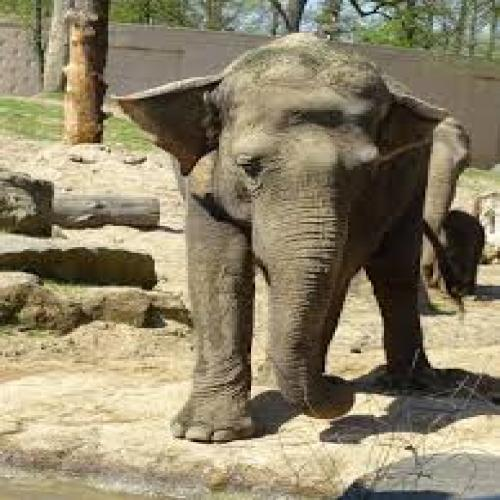asian_elephant-endangered: (152, 38, 449, 402)
